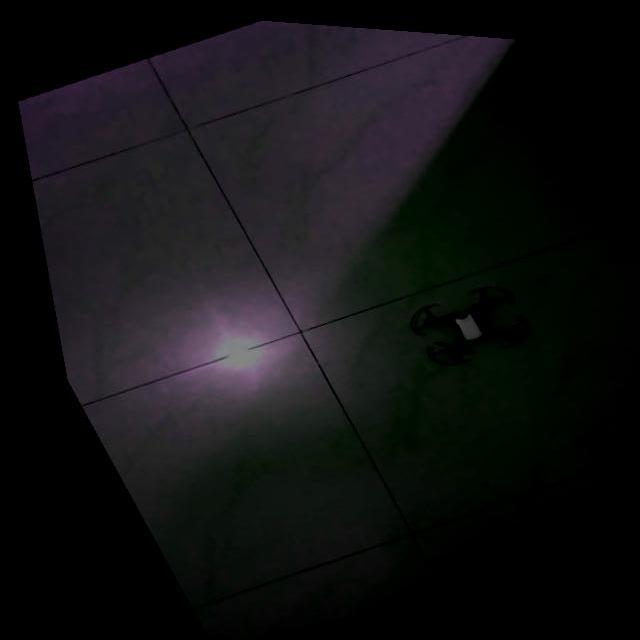drone: (398, 277, 517, 358)
